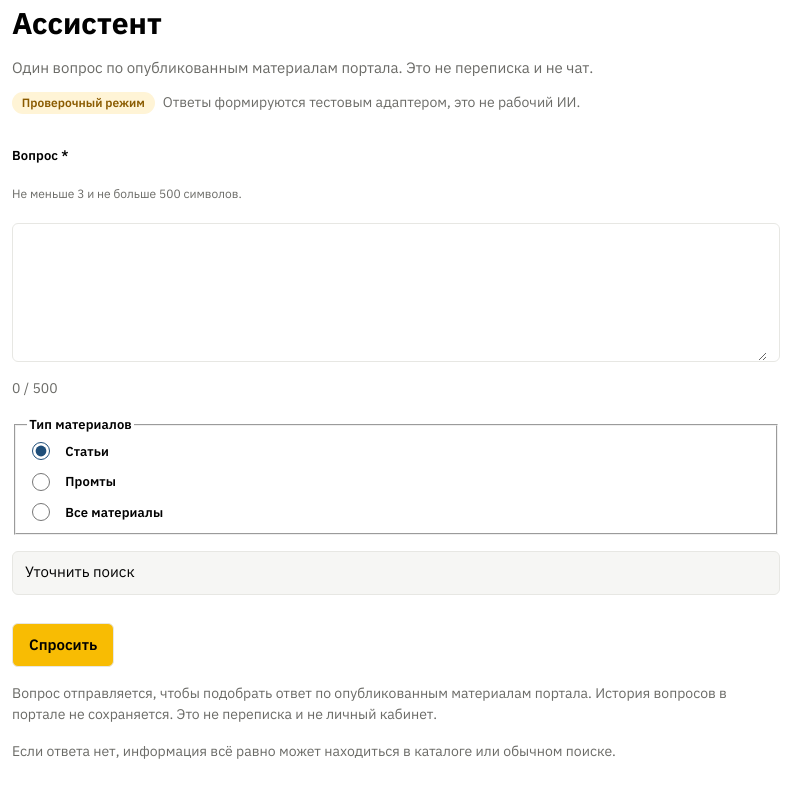
assistant hardening states › keeps insufficient state without a link when searchHref is unsafe
Step 1. Type "Как оформить отпуск?" into the text box labelled "Вопрос *" → (396, 293), box top-left (25, 224), bottom-right (767, 361)
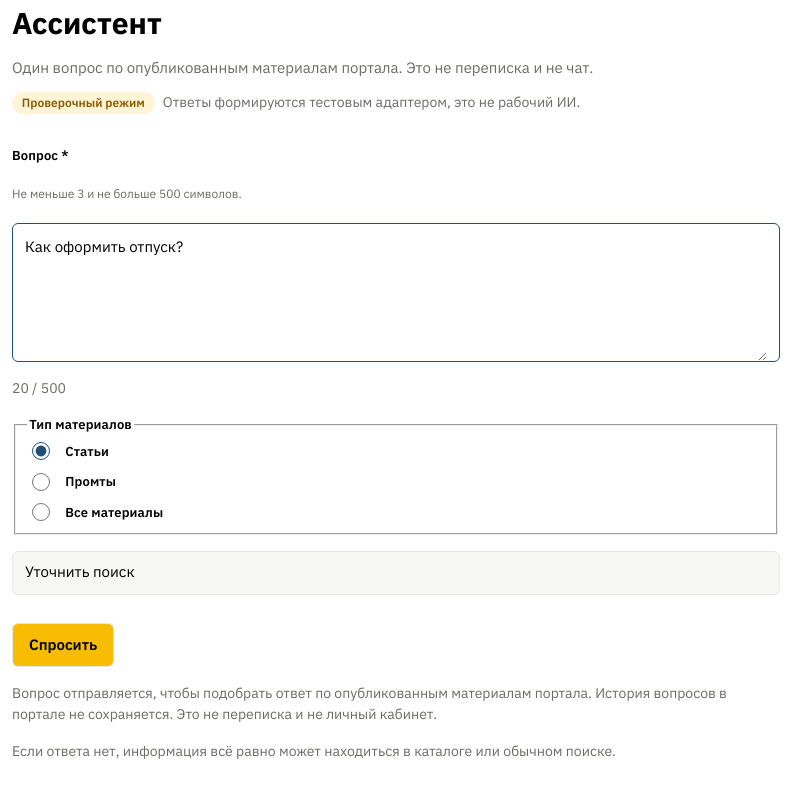
Step 2. Click the button "Спросить" → click(63, 644), box top-left (12, 622), bottom-right (114, 666)
(page scrolled)
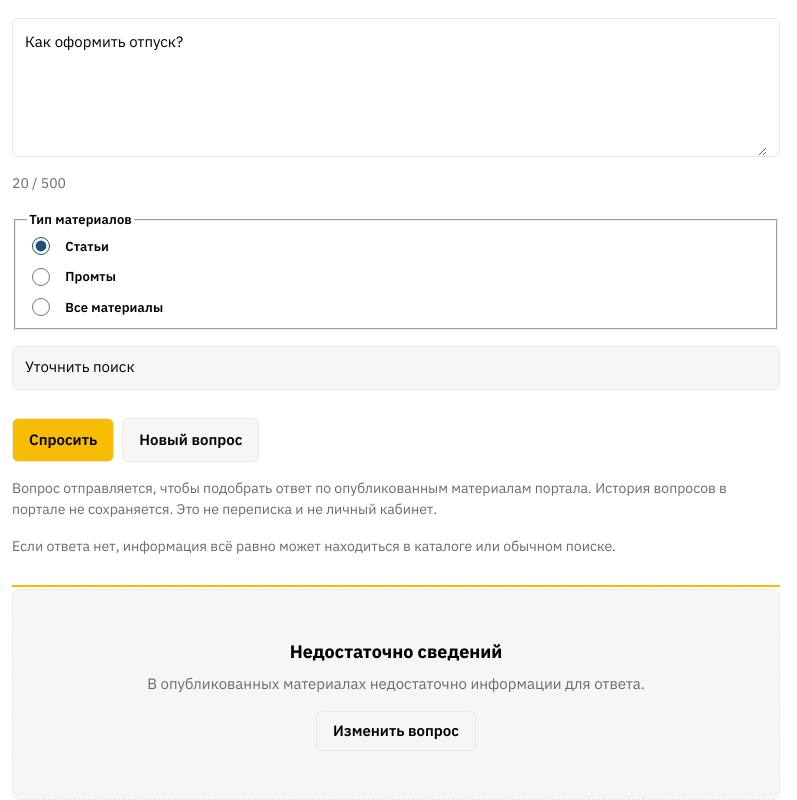
expect the text "недостаточно информации" is shown: met, box top-left (147, 674), bottom-right (645, 692)
